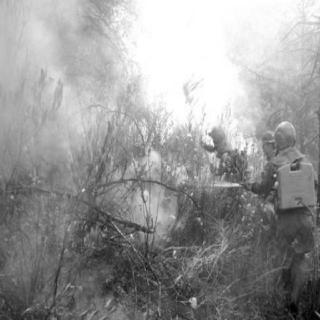Fire: (119, 156, 183, 228)
